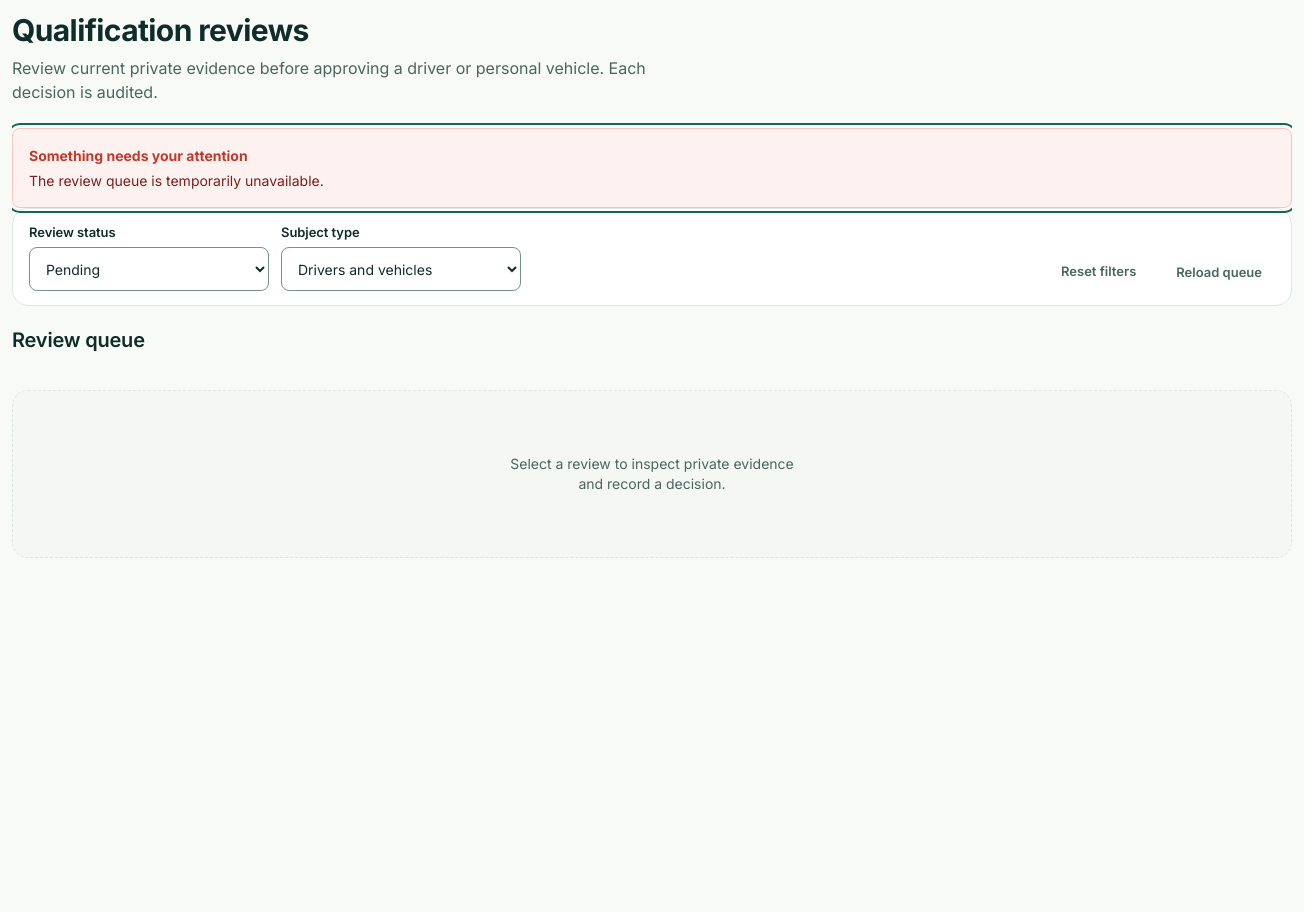
retries a failed queue load from the toolbar and restores the review rows
Expected: the message shows "temporarily unavailable", [29,172,324,189]
Click the button "Reload queue" at {"x": 1219, "y": 272}, box [1163,253,1275,291]
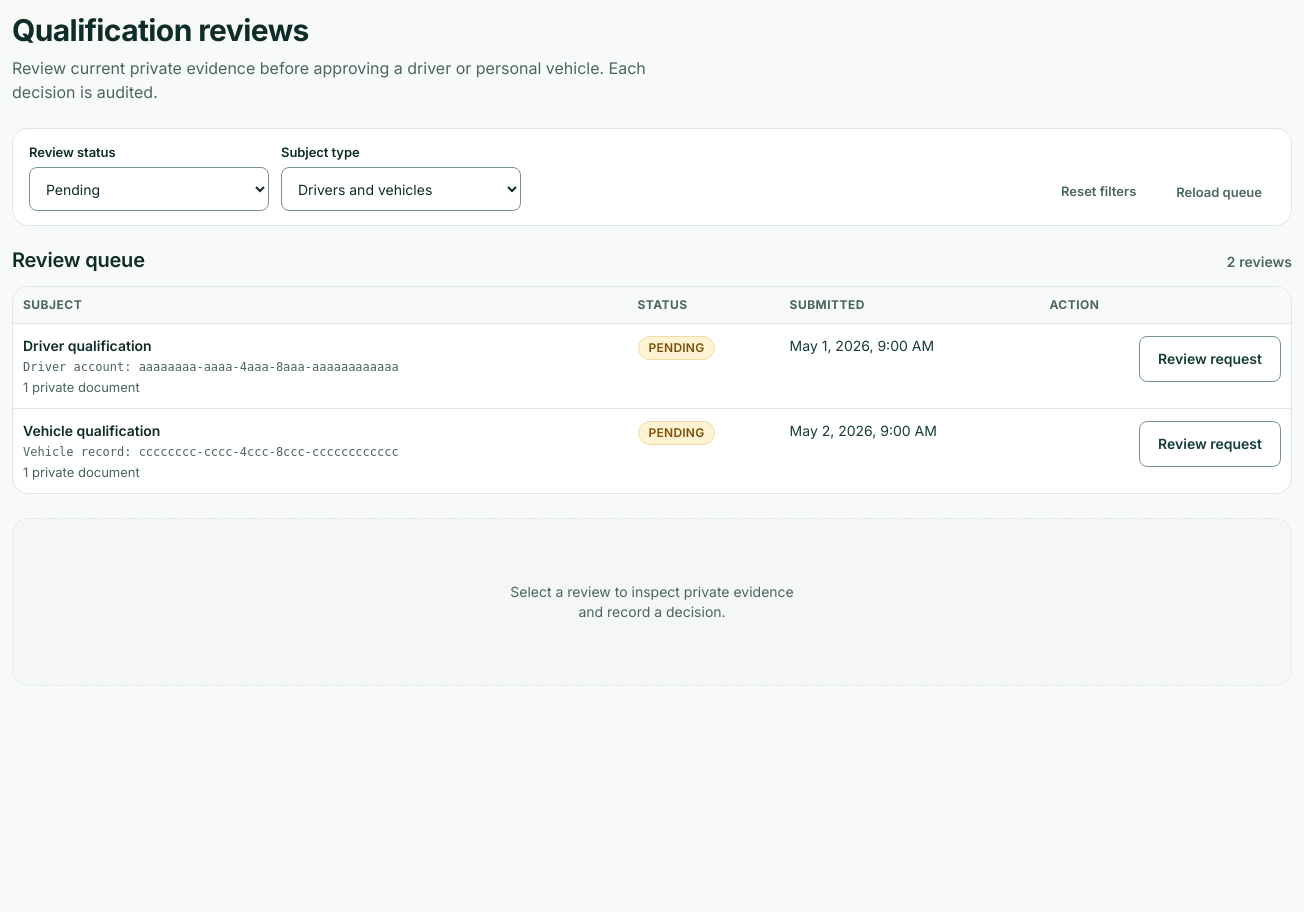
Now the button with aria-label "Review driver request 1" is shown, box [1139,336,1281,382]
